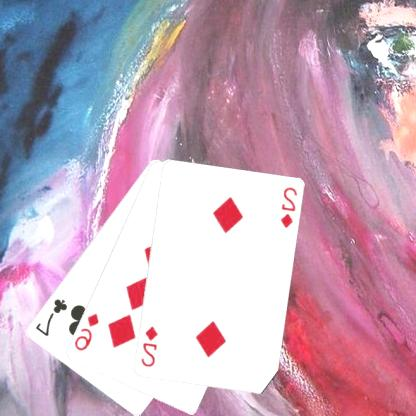2D: (279, 184, 300, 229), (140, 324, 160, 368)
7C: (34, 295, 71, 338)
9D: (72, 310, 102, 353)
